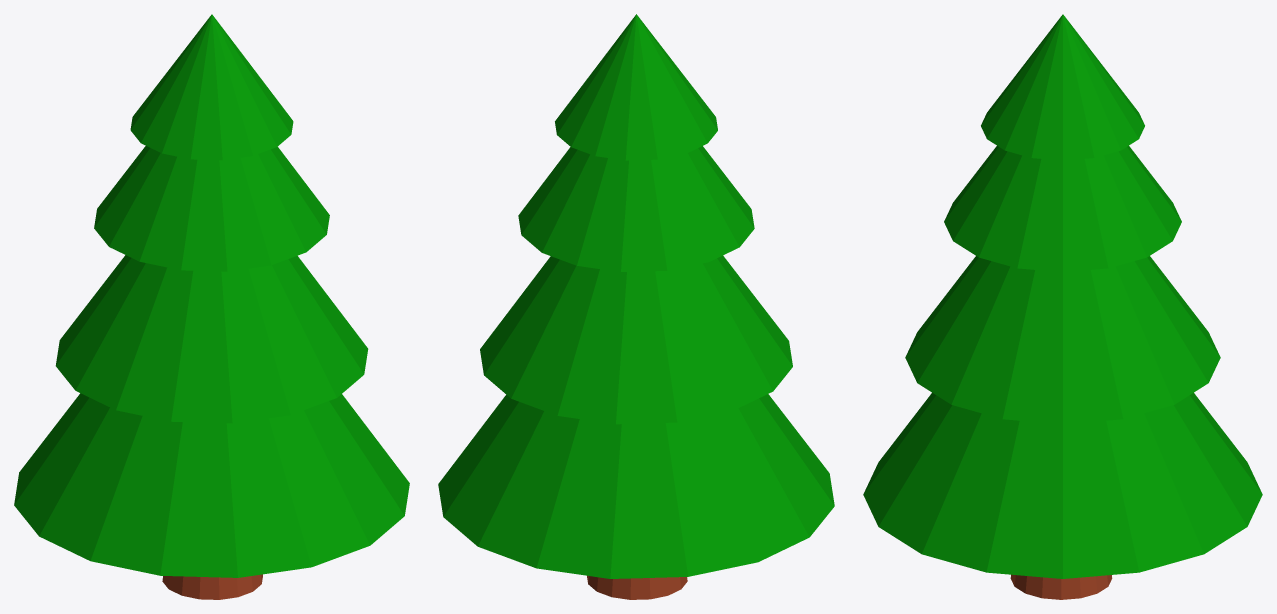
Rendered from Arbre_montagne.fbx.
The picture shows the model from 3 angles, left to right: view 1: azimuth 30°, elevation 25°; view 2: azimuth 150°, elevation 25°; view 3: azimuth 270°, elevation 25°; orthographic projection.
Visible parts, largest first — view 1: Cylinder.001, Cylinder.002, Cylinder.003, Cylinder.004, Cylinder; view 2: Cylinder.001, Cylinder.002, Cylinder.003, Cylinder.004, Cylinder; view 3: Cylinder.001, Cylinder.002, Cylinder.003, Cylinder.004, Cylinder.
Part boxes in pixels (x1=…): Cylinder.001: x1=14, y1=393, x2=409, y2=577; Cylinder.002: x1=55, y1=255, x2=368, y2=423; Cylinder.003: x1=94, y1=146, x2=329, y2=271; Cylinder.004: x1=130, y1=14, x2=293, y2=160; Cylinder: x1=162, y1=574, x2=262, y2=599; Cylinder.001: x1=438, y1=394, x2=834, y2=578; Cylinder.002: x1=480, y1=255, x2=792, y2=424; Cylinder.003: x1=518, y1=146, x2=754, y2=271; Cylinder.004: x1=555, y1=14, x2=717, y2=160; Cylinder: x1=587, y1=575, x2=687, y2=599; Cylinder.001: x1=863, y1=392, x2=1262, y2=578; Cylinder.002: x1=905, y1=256, x2=1220, y2=424; Cylinder.003: x1=944, y1=146, x2=1181, y2=272; Cylinder.004: x1=981, y1=14, x2=1144, y2=160; Cylinder: x1=1010, y1=574, x2=1112, y2=599.
Bounding box in the file's own units: 485 × 755 × 485.
